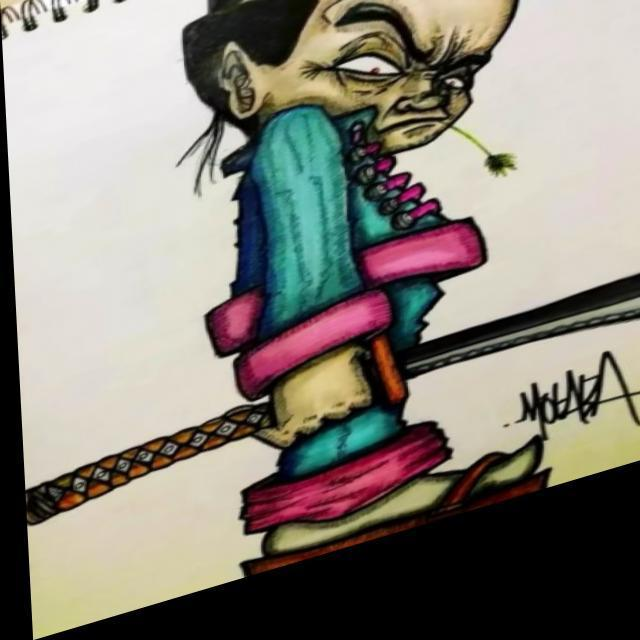-: (2, 0, 590, 640), (508, 377, 640, 476)
